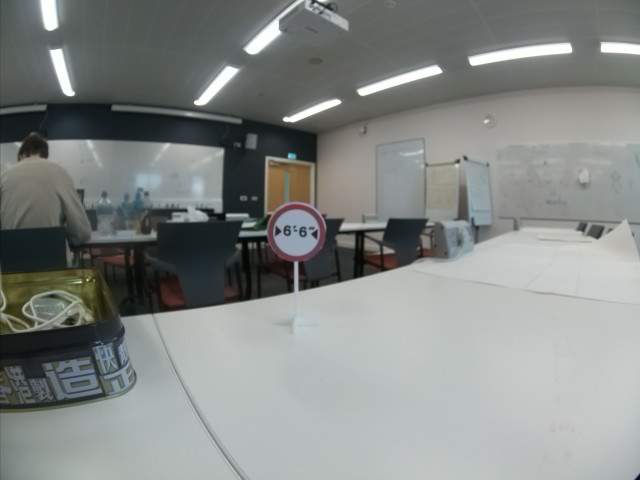6ft6: (266, 200, 328, 263)
